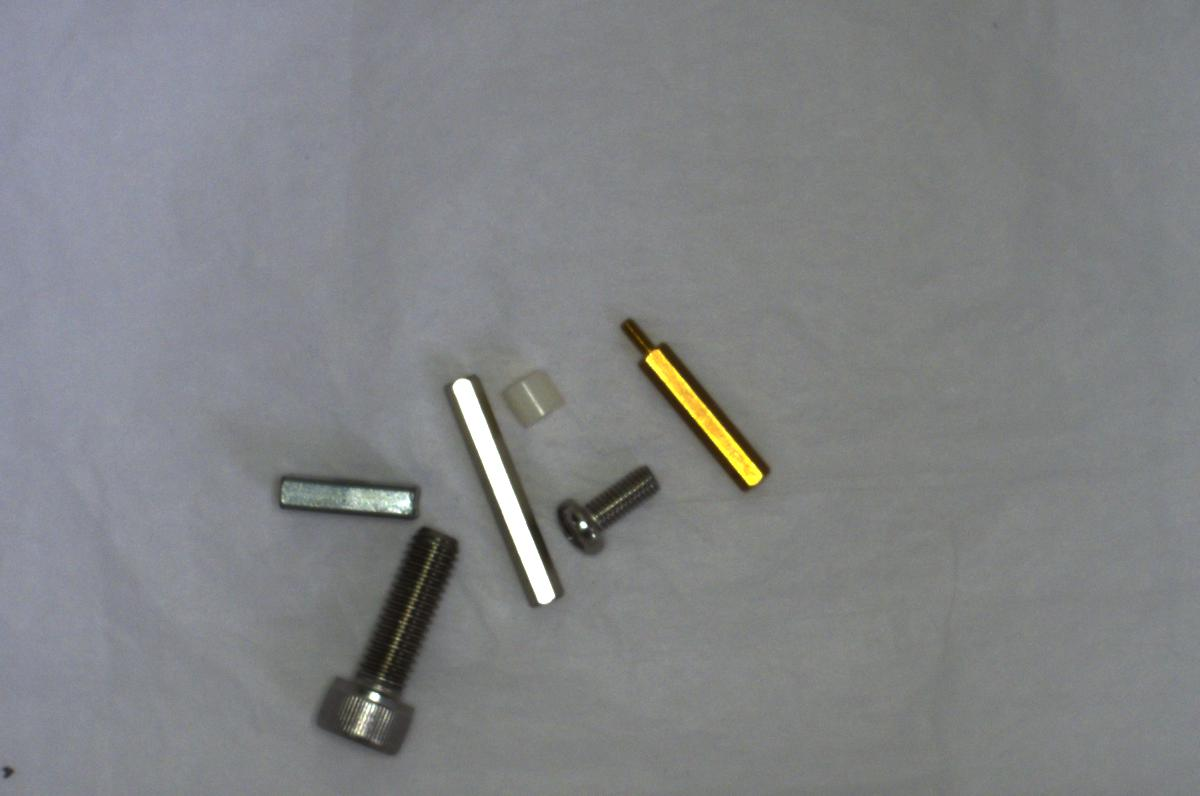Double hexagonal column: (442, 368, 567, 614)
Hexagon pillar: (614, 309, 772, 493)
Hexagon screw: (286, 521, 470, 753)
Plastic cushion pillar: (492, 363, 578, 430)
Rectangular nut: (272, 467, 422, 521)
Round head screw: (552, 462, 664, 563)
